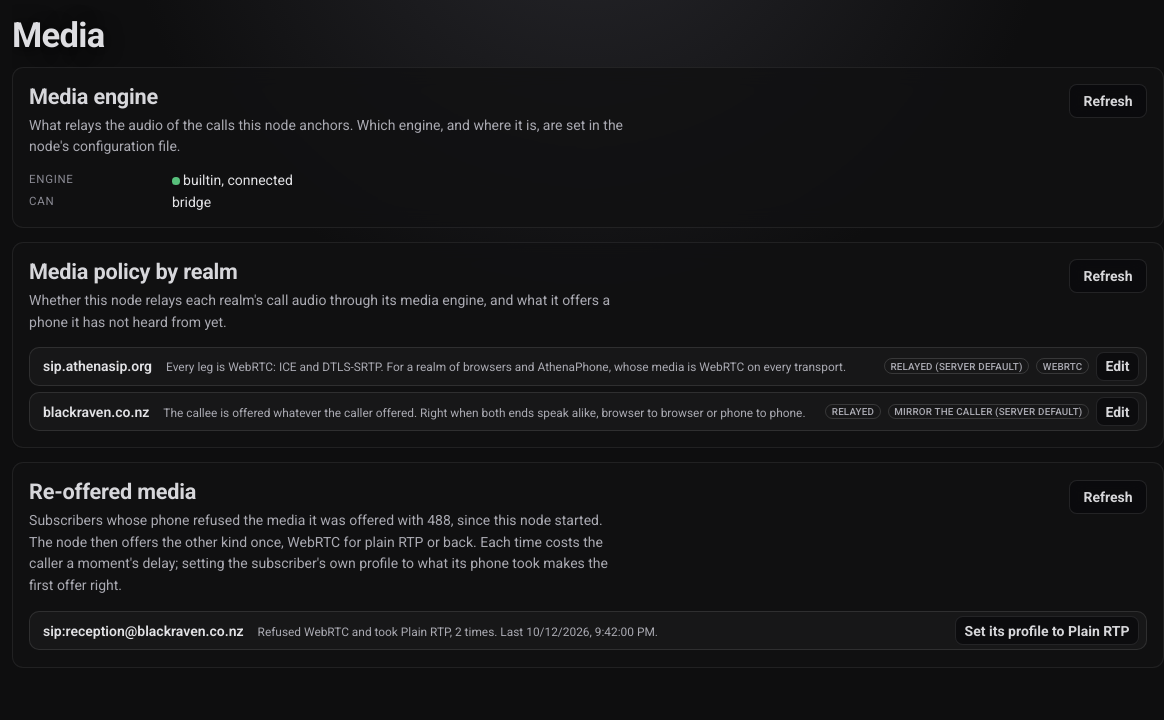
it: MediaScreen › sets a re-offered subscriber’s profile to what its phone took, when asked
Click the button with aria-label "Set sip:reception@blackraven.co.nz to Plain RTP".
click(1047, 631)  # box [955,616,1139,645]
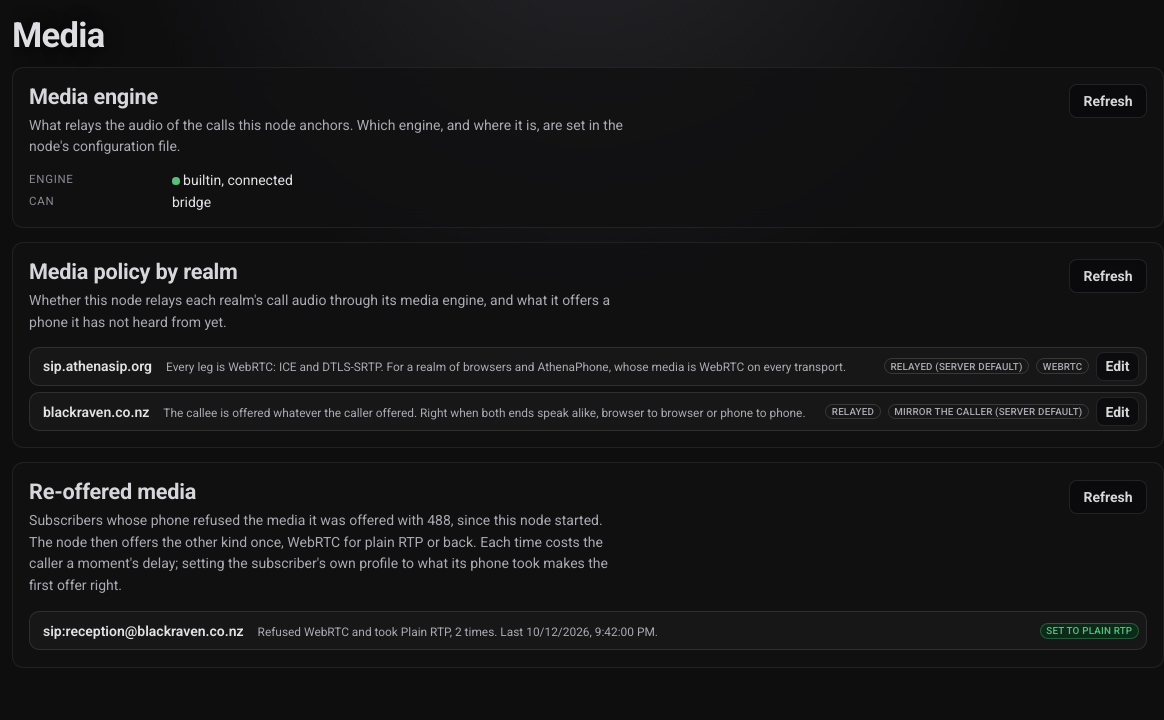
Check: the text "Set to Plain RTP" is shown, box [1040,623,1139,638]
